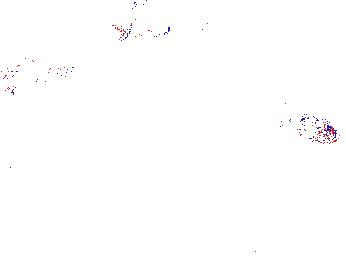glassfish: (221, 106, 323, 169)
red belly glassfish: (1, 83, 21, 102)
redtail glassfish: (153, 78, 223, 123), (1, 58, 78, 82), (112, 17, 173, 44)
